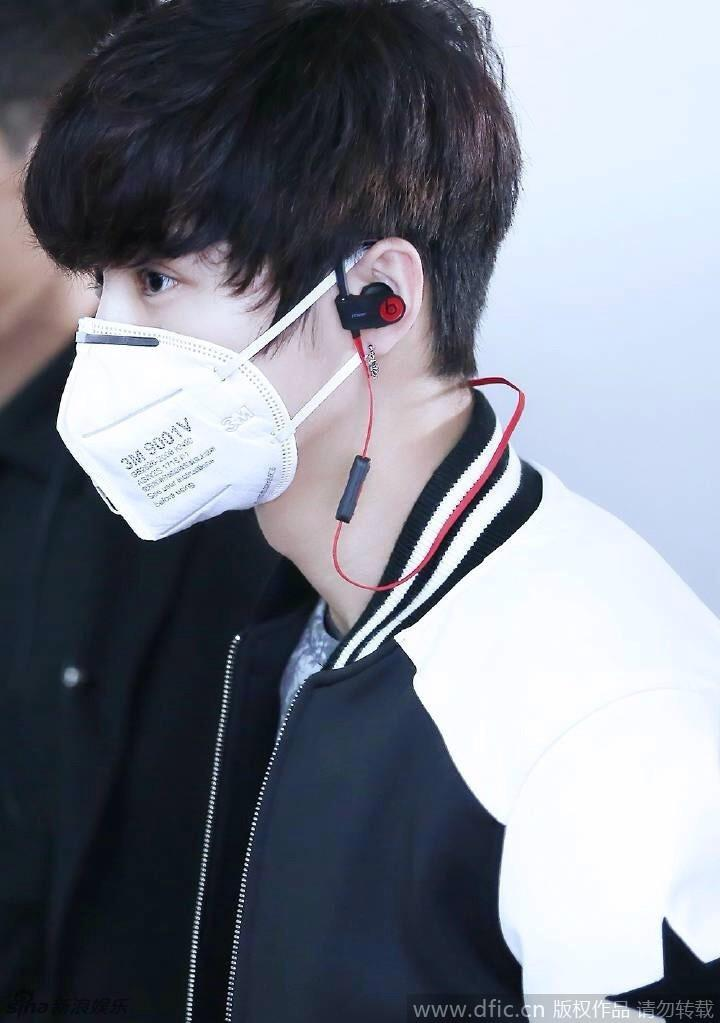OK: (64, 194, 290, 536)
